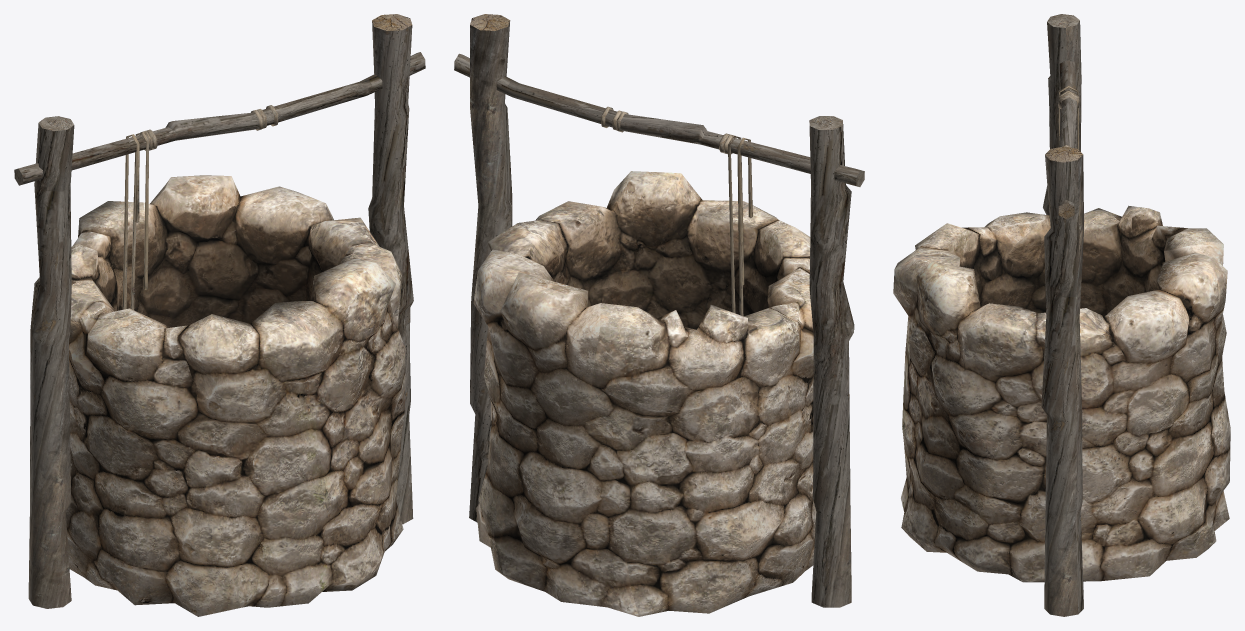
The model's file is Well.fbx.
3 views of the same model, side by side, from view 1: azimuth 30°, elevation 25°; view 2: azimuth 150°, elevation 25°; view 3: azimuth 270°, elevation 25° (orthographic). The views are drawn at different scales.
Parts seen in each view (by area): view 1: polySurface312; view 2: polySurface312; view 3: polySurface312.
Part boxes in pixels (x1,y1,x2,y2): polySurface312: (14, 14, 425, 616); polySurface312: (454, 14, 864, 616); polySurface312: (893, 14, 1230, 616).
Size of the model in its own units: 3.1 by 3.66 by 2.44.
